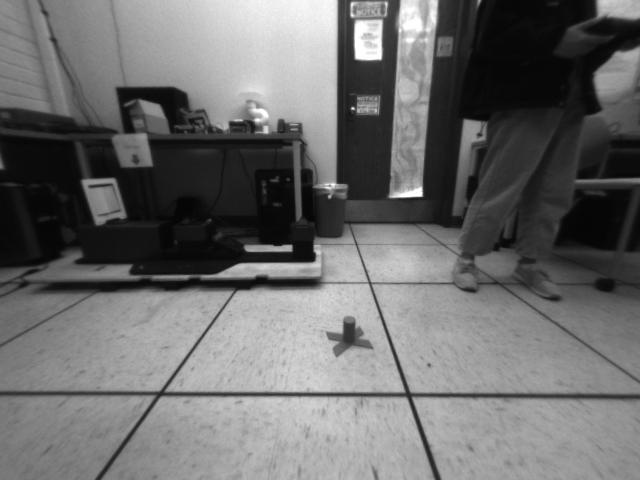x: (326, 315, 372, 356)
